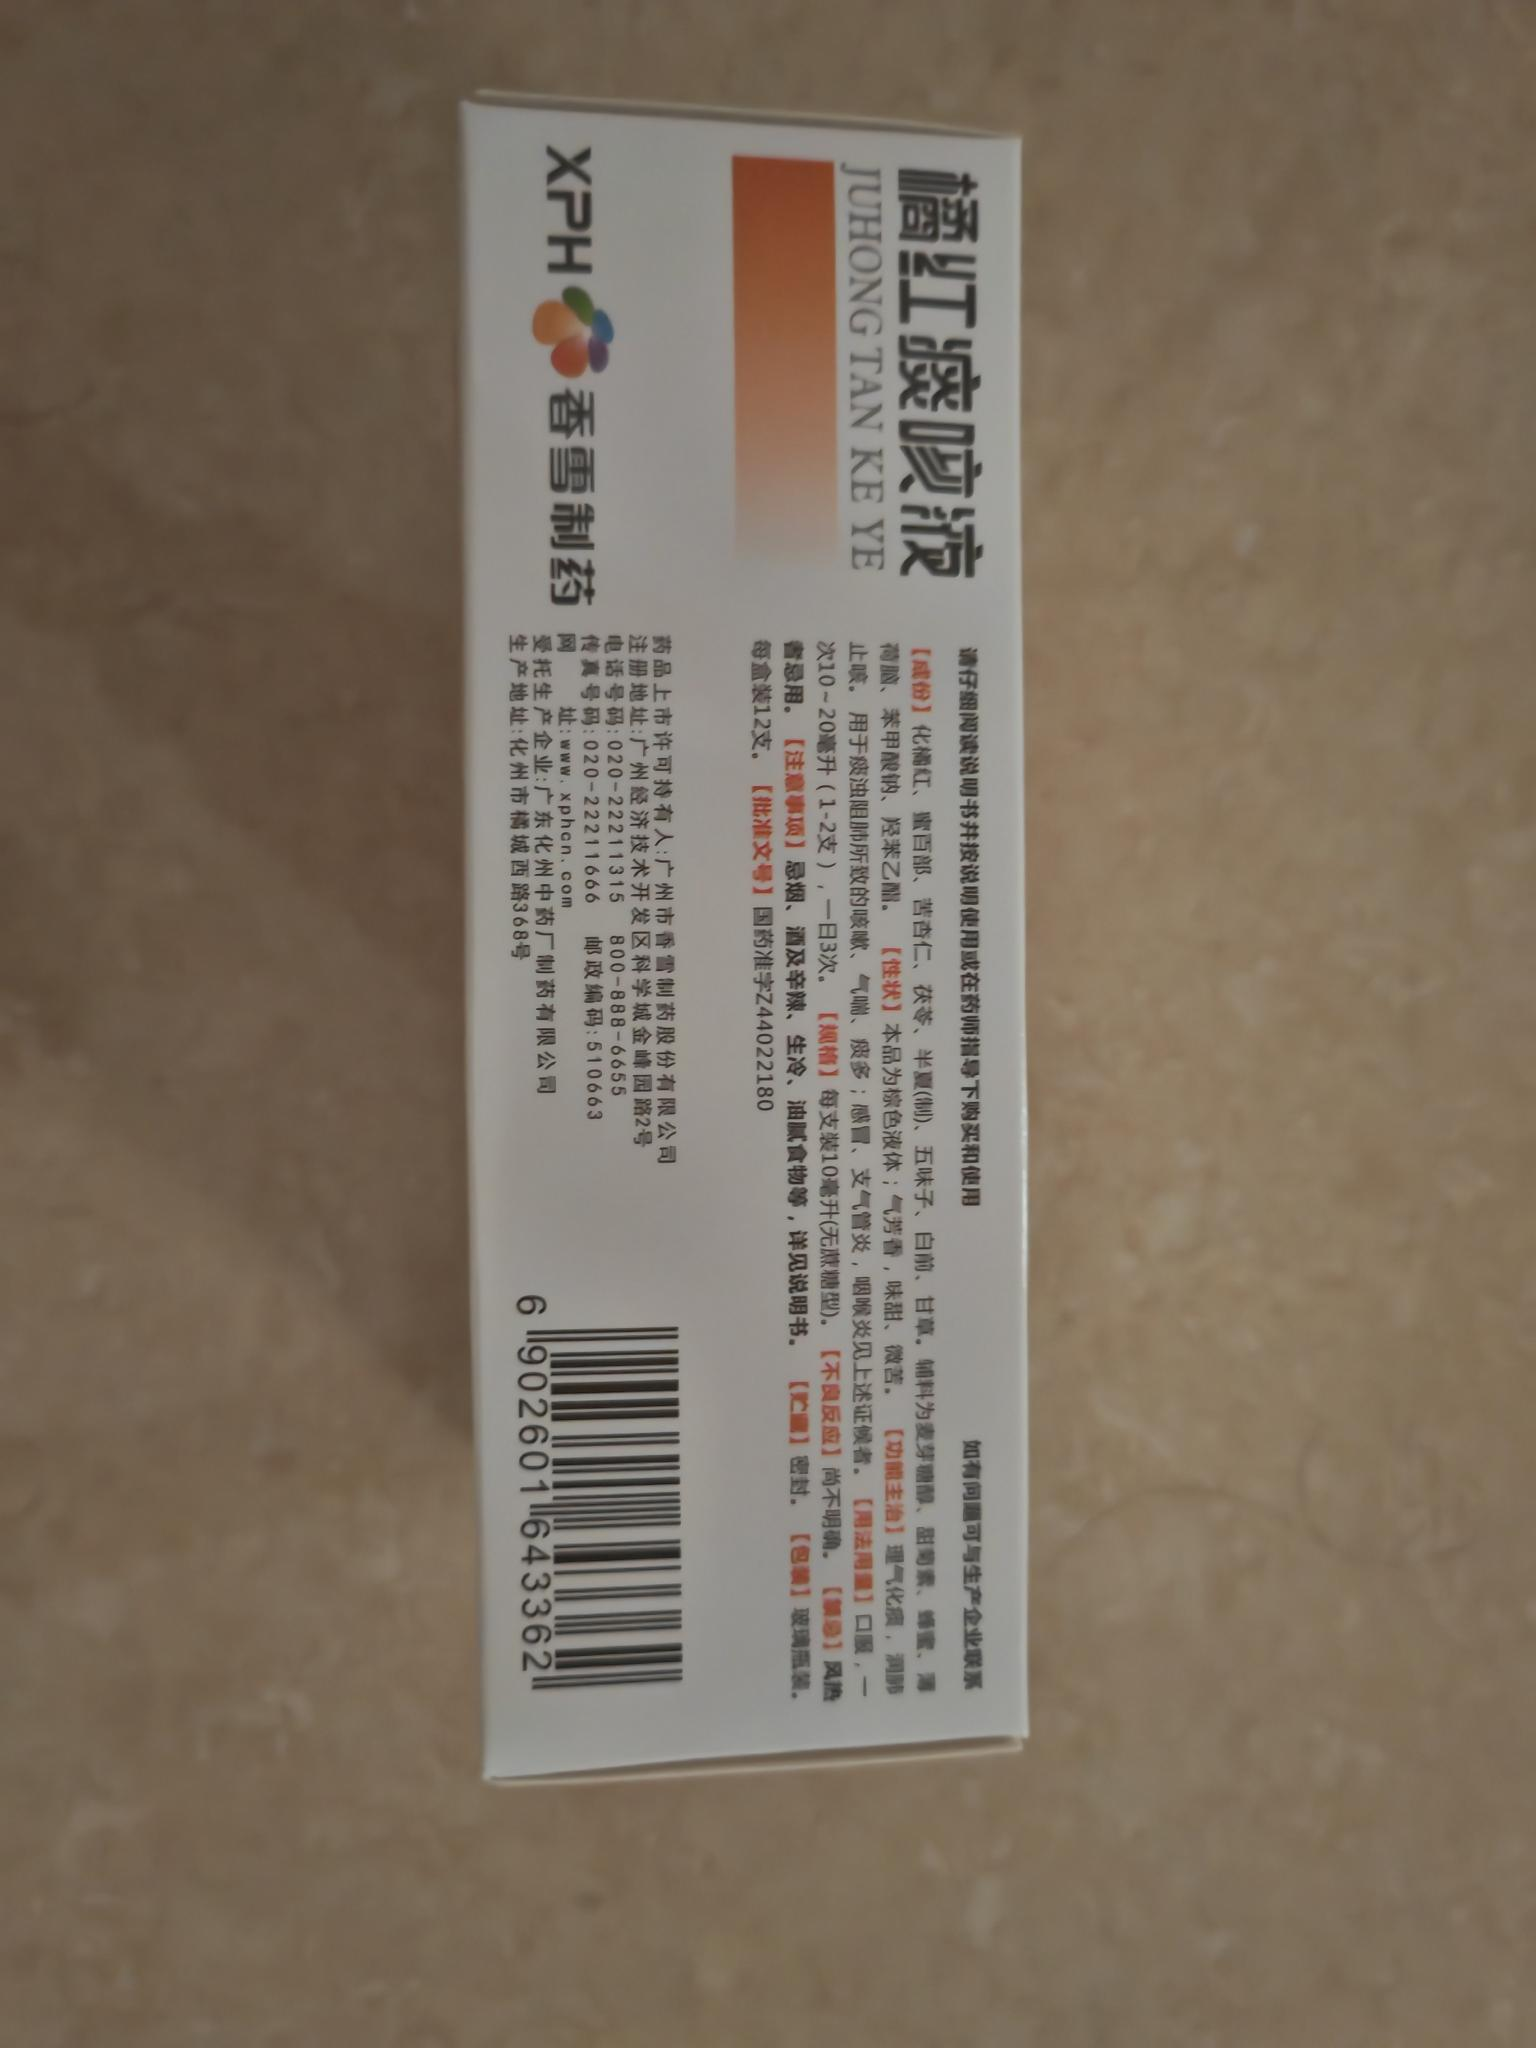Medicine1: (402, 66, 1083, 1822)
